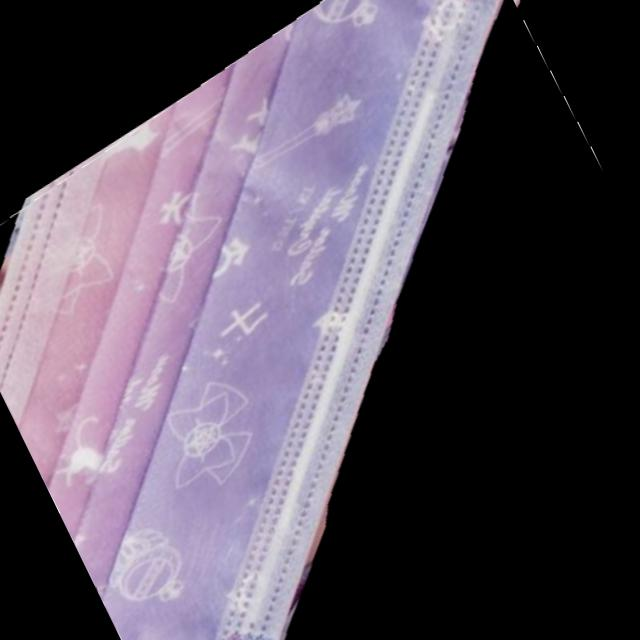others: (0, 0, 502, 640)
